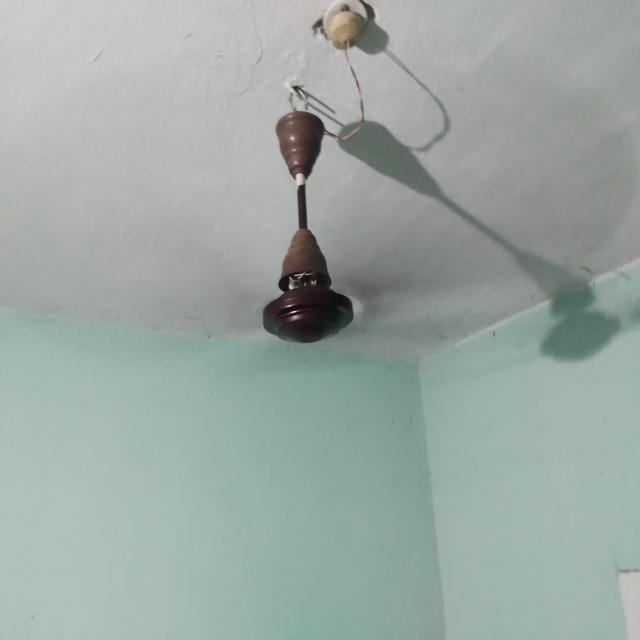fan_on: (49, 114, 597, 347)
